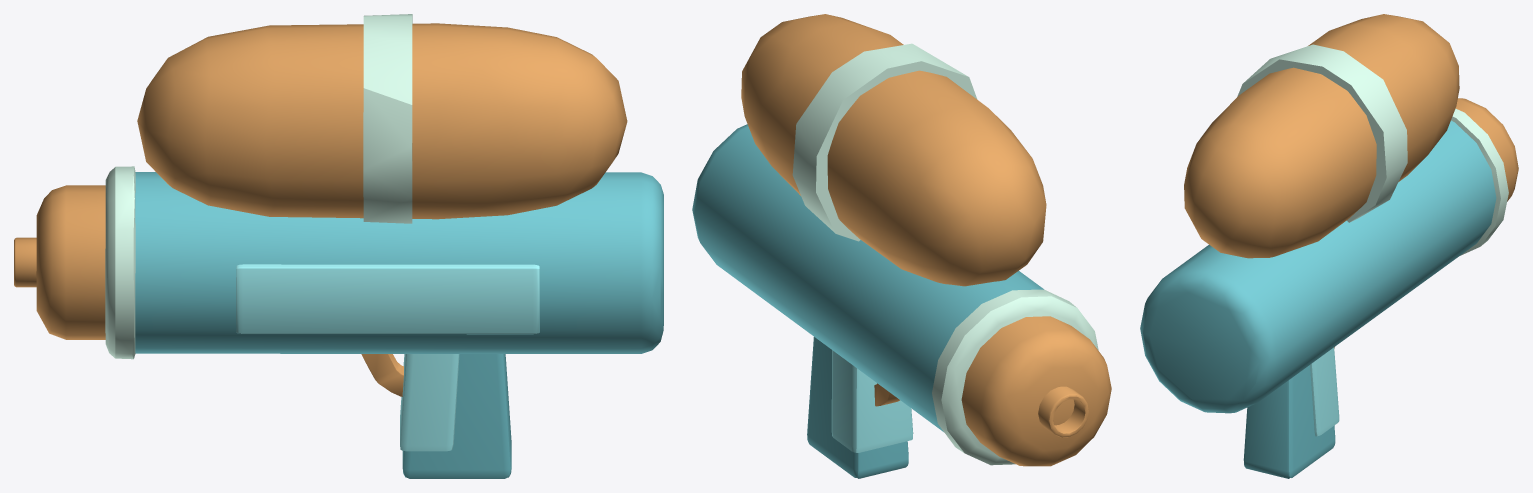
The model's file is Watergun.fbx.
3 renders of one model, left to right at view 1: azimuth 30°, elevation 25°; view 2: azimuth 150°, elevation 25°; view 3: azimuth 270°, elevation 25°, orthographic. The views are drawn at different scales.
Parts seen in each view (by area): view 1: Watergun; view 2: Watergun; view 3: Watergun.
Boxes of the visible parts, box(x1,y1,x2,y2) form: Watergun: box(14, 14, 663, 478); Watergun: box(692, 14, 1111, 478); Watergun: box(1140, 14, 1518, 478).
Size of the model in its own units: 155 by 124 by 112.
